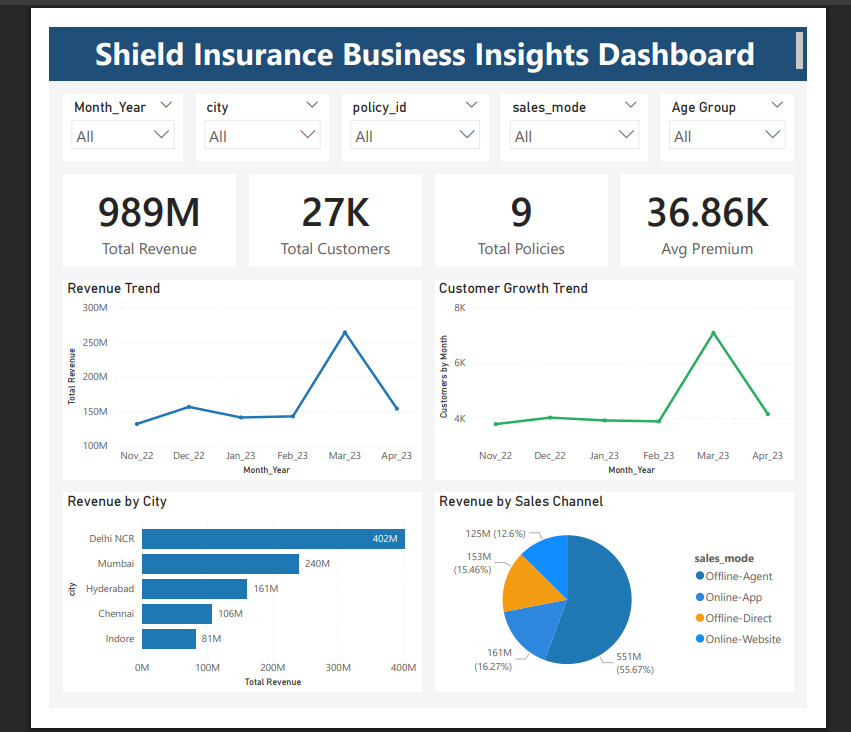

Layout of this report page (visuals, bound fields, positions):
{"tool":"powerbi","page":{"name":"Page 1","canvas":[912,820],"ordinal":0},"visuals":[{"type":"textbox","title":"Shield Insurance Business Insights Dashboard","box":[0,0,912,64],"z":0},{"type":"cardVisual","title":"Total Revenue","fields":{"Data":["fact_premiums.Total Revenue"]},"box":[16,176,208,112],"z":1000},{"type":"cardVisual","title":"Total Customers","fields":{"Data":["fact_premiums.Total Customers"]},"box":[240,176,208,112],"z":2000},{"type":"cardVisual","title":"Total Policies","fields":{"Data":["fact_premiums.Total Policies"]},"box":[464,176,208,112],"z":3000},{"type":"cardVisual","title":"Avg Premium","fields":{"Data":["fact_premiums.Avg Premium"]},"box":[1056,80,208,112],"z":4000},{"type":"lineChart","title":"Customer Growth Trend","fields":{"Category":["dim_date.Month_Year"],"Y":["fact_premiums.Customers by Month"]},"box":[464,304,432,240],"z":5000},{"type":"lineChart","title":"Revenue Trend","fields":{"Y":["fact_premiums.Total Revenue"],"Category":["dim_date.Month_Year"]},"box":[16,304,432,240],"z":6000},{"type":"barChart","title":"Revenue by City","fields":{"Y":["fact_premiums.Total Revenue"],"Category":["dim_customer.city"]},"box":[16,560,432,240],"z":7000},{"type":"pieChart","title":"Revenue by Sales Channel","fields":{"Y":["fact_premiums.Revenue"],"Category":["fact_premiums.sales_mode"]},"box":[464,560,432,240],"z":8000},{"type":"slicer","fields":{"Values":["dim_date.Month_Year"]},"box":[16,80,208,80],"z":9000},{"type":"slicer","fields":{"Values":["dim_customer.city"]},"box":[240,80,208,80],"z":10000},{"type":"slicer","fields":{"Values":["fact_premiums.sales_mode"]},"box":[464,80,208,80],"z":11000},{"type":"slicer","fields":{"Values":["dim_customer.Age Group"]},"box":[688,80,208,80],"z":12000},{"type":"cardVisual","title":"Total Policies","fields":{"Data":["fact_premiums.Avg Premium"]},"box":[688,176,208,112],"z":13000}]}

Visuals, with their boxes on the page's 912x820 design canvas (x1, y1, x2, y2). These are canvas units, not pixel positions in the 851x732 screenshot, which may show the page scaled, cropped or inside an application window:
"Shield Insurance Business Insights Dashboard" textbox: bbox=(0, 0, 912, 64)
"Total Revenue" cardVisual: bbox=(16, 176, 224, 288)
"Total Customers" cardVisual: bbox=(240, 176, 448, 288)
"Total Policies" cardVisual: bbox=(464, 176, 672, 288)
"Avg Premium" cardVisual: bbox=(1056, 80, 1264, 192)
"Customer Growth Trend" lineChart: bbox=(464, 304, 896, 544)
"Revenue Trend" lineChart: bbox=(16, 304, 448, 544)
"Revenue by City" barChart: bbox=(16, 560, 448, 800)
"Revenue by Sales Channel" pieChart: bbox=(464, 560, 896, 800)
slicer - dim_date.Month_Year: bbox=(16, 80, 224, 160)
slicer - dim_customer.city: bbox=(240, 80, 448, 160)
slicer - fact_premiums.sales_mode: bbox=(464, 80, 672, 160)
slicer - dim_customer.Age Group: bbox=(688, 80, 896, 160)
"Total Policies" cardVisual: bbox=(688, 176, 896, 288)
